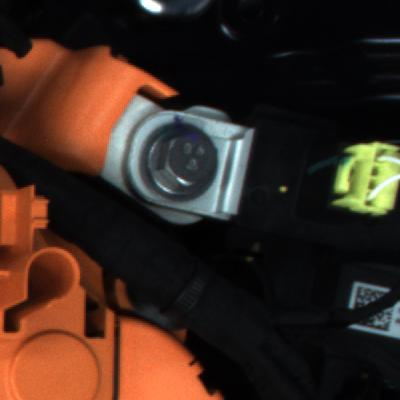nut_b: (133, 121, 227, 204)
